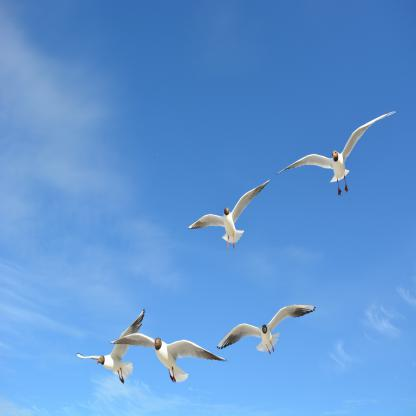bird: (276, 109, 398, 196), (187, 179, 272, 250), (109, 334, 229, 383), (216, 304, 316, 357), (78, 310, 145, 385)
